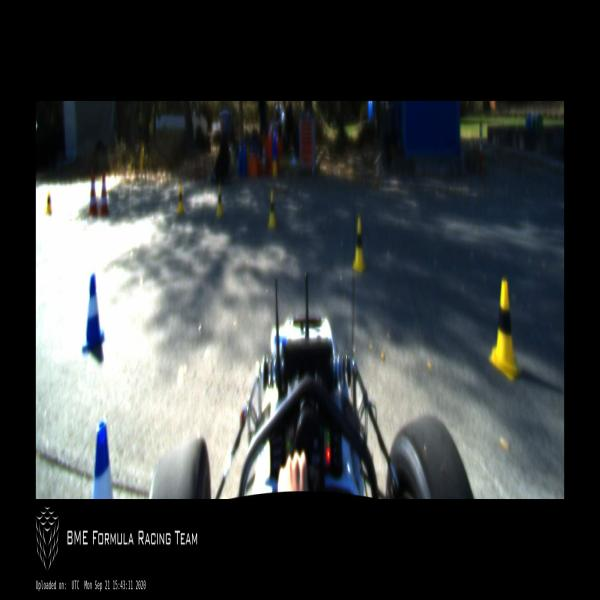blue_cone: (82, 273, 104, 353), (92, 422, 112, 497)
large_orange_cone: (99, 170, 109, 218), (87, 170, 97, 216)
yellow_cone: (489, 280, 521, 381), (353, 216, 366, 274), (268, 191, 276, 230), (215, 185, 223, 219), (176, 184, 184, 216), (45, 192, 52, 215)
